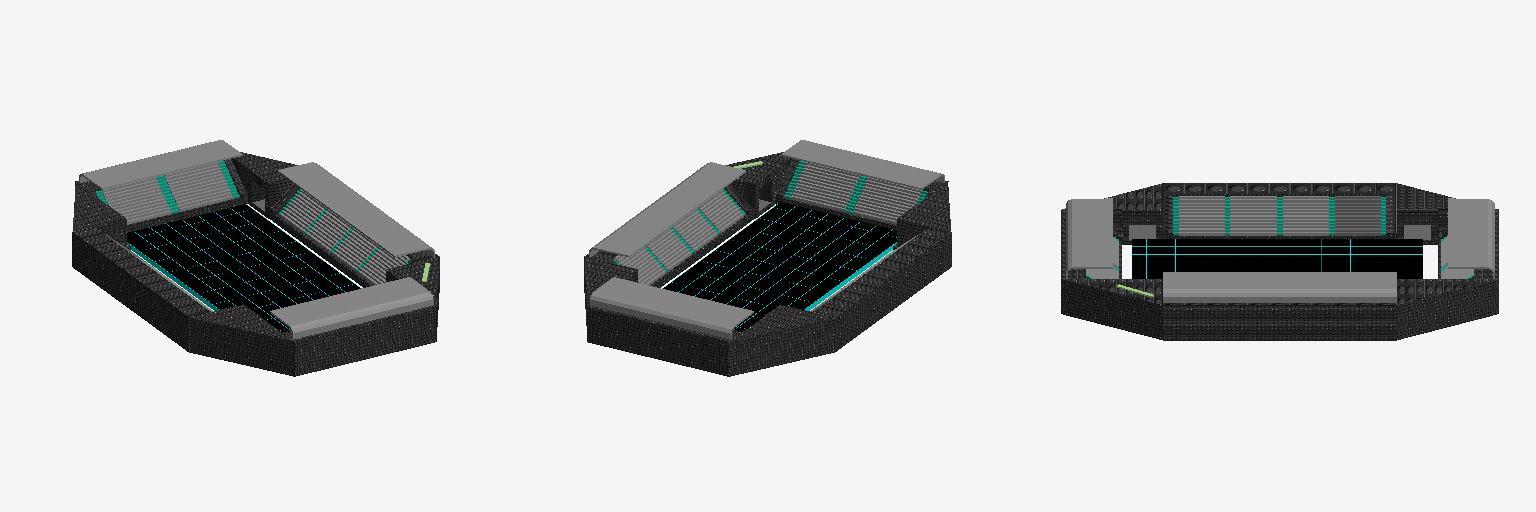
3 renders of one model, left to right at view 1: azimuth 30°, elevation 25°; view 2: azimuth 150°, elevation 25°; view 3: azimuth 270°, elevation 25°, orthographic.
Parts seen in each view (by area): view 1: Box029, Box010, Box008, Box011, Box015, Box012, Box014, Line008, Box006, Line007, Box009, Box005 (+7 smaller); view 2: Box029, Box010, Box003, Box009, Box014, Box012, Box015, Line021, Box007, Line022, Box011, Box005 (+7 smaller); view 3: Box029, Box005, Box012, Box006, Box007, Box010, Box014, Box015, Box009, Box011, Line027, Line026 (+5 smaller).
Part boxes in pixels (x1,y1,x2,y2): Box029: (127,204,361,331); Box010: (72,227,210,352); Box008: (282,305,435,376); Box011: (190,304,294,376); Box015: (270,277,433,339); Box012: (278,162,434,257); Box014: (79,140,242,189); Line008: (164,162,232,211); Box006: (231,152,297,218); Line007: (102,177,170,224); Box009: (73,182,126,243); Box005: (269,184,438,287); Box029: (662,202,896,331); Box010: (813,227,951,352); Box003: (587,306,741,376); Box009: (729,304,833,376); Box014: (590,277,753,339); Box012: (589,162,745,257); Box015: (781,140,944,189); Line021: (791,162,859,211); Box007: (726,152,791,218); Line022: (853,177,921,224); Box011: (897,182,950,243); Box005: (585,184,754,287); Box029: (1132,239,1422,278); Box005: (1163,303,1396,340); Box012: (1163,272,1396,302); Box006: (1397,279,1498,339); Box007: (1061,279,1162,339); Box010: (1163,183,1396,238); Box014: (1448,198,1494,278); Box015: (1066,198,1112,278); Box009: (1397,183,1498,244); Box011: (1062,183,1162,244); Line027: (1230,196,1276,235); Line026: (1335,196,1380,235).
Bounding box in the file's own units: 268 × 47.75 × 406.
7 materials, 2 textured.